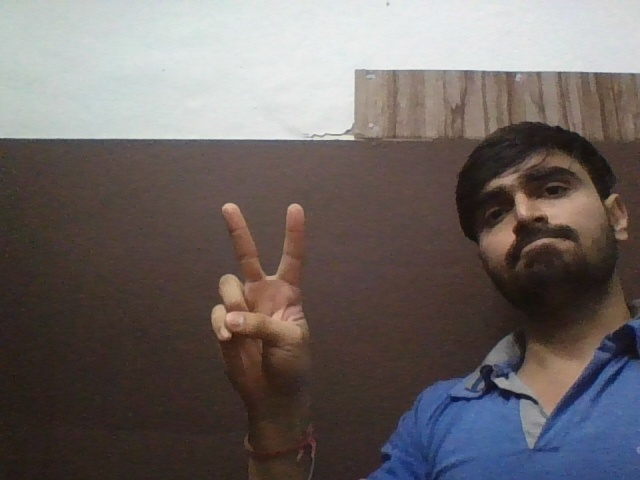V: (205, 195, 324, 401)
